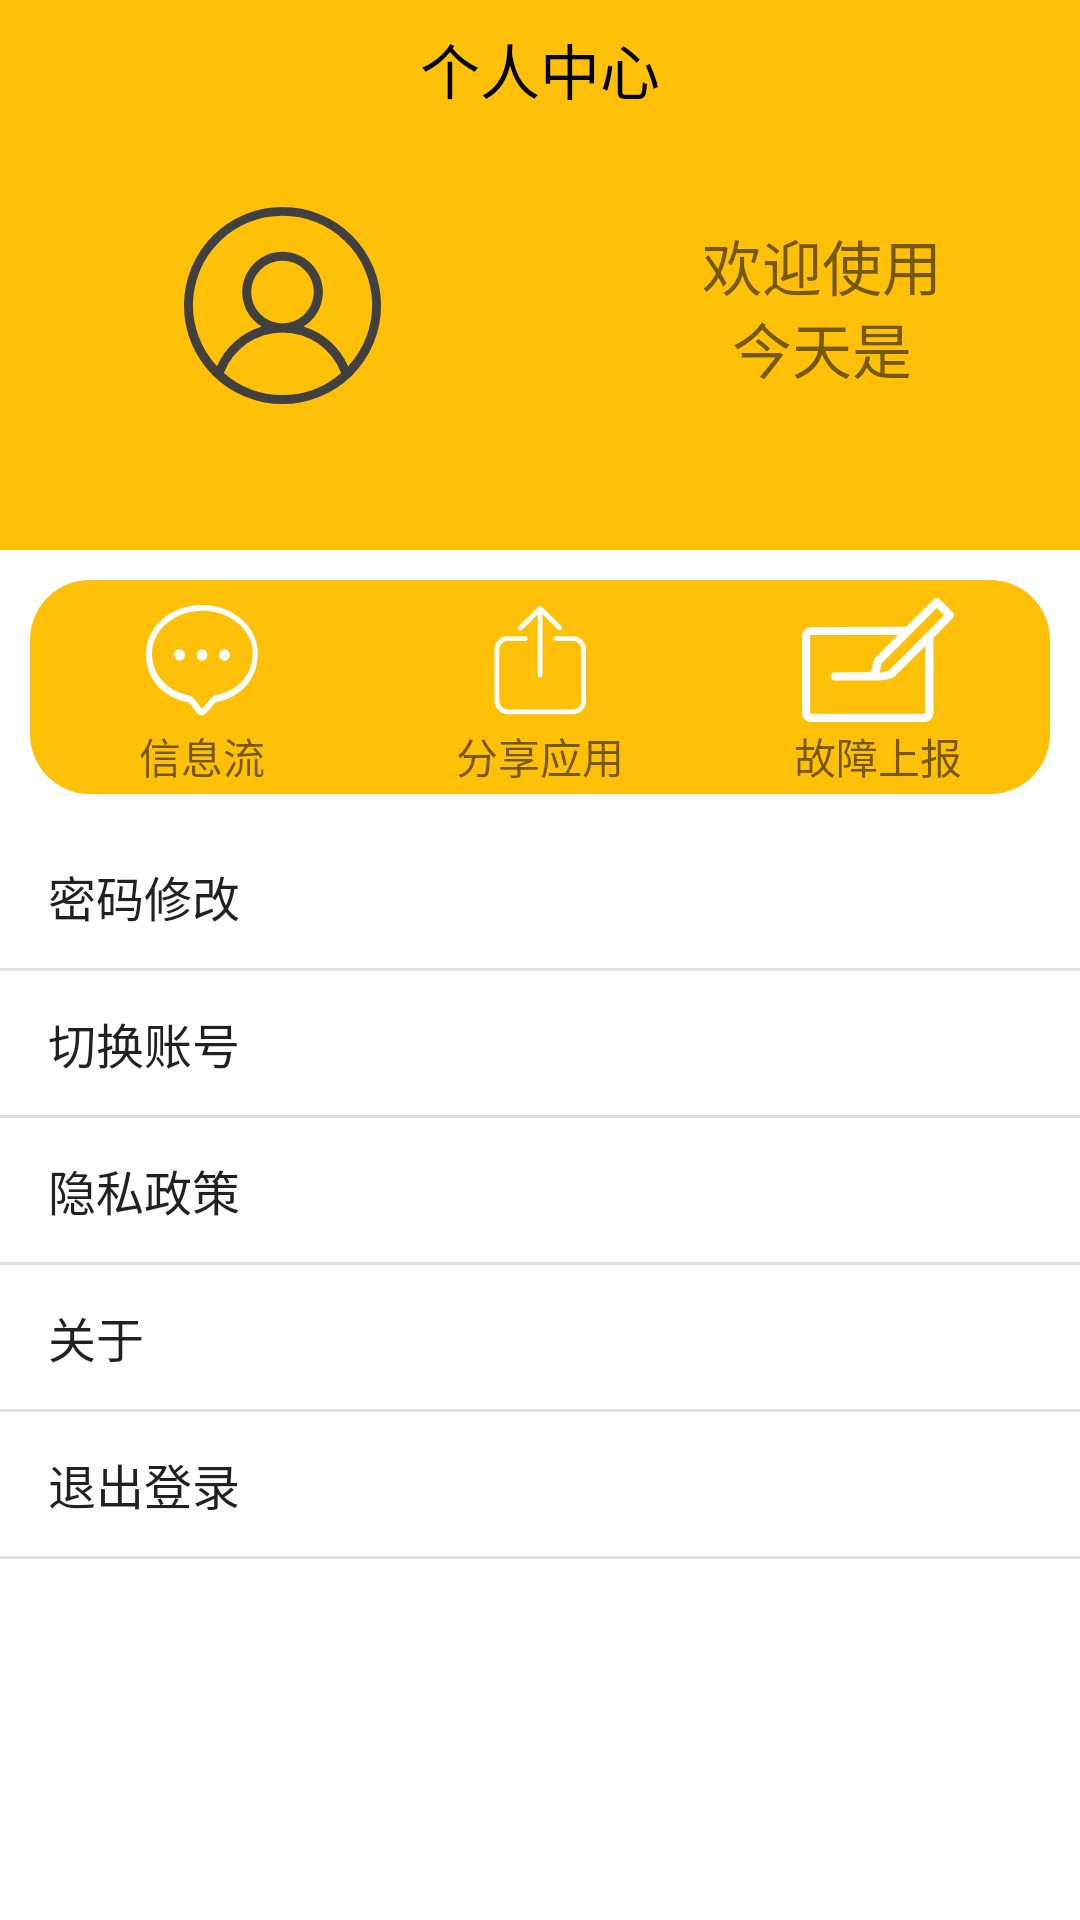

Icons on this 1080*1920 Android screen, each with its box as (x1, y1, x2, y2):
message: (145, 605, 258, 716)
shuxie: (802, 598, 954, 722)
touxiang: (184, 207, 381, 404)
